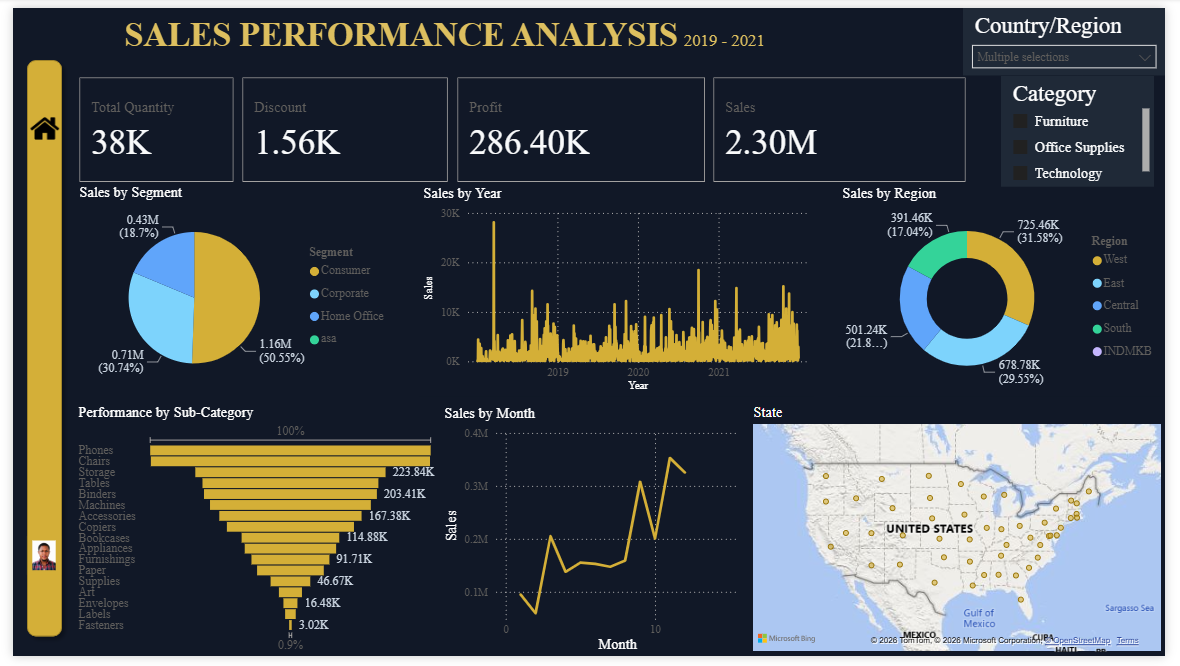

The dashboard page shown, as its layout file describes it:
{"tool":"powerbi","page":{"name":"Report","canvas":[1280,720],"ordinal":1},"visuals":[{"type":"shape","box":[6.7,48.3,56.7,658.3],"z":0},{"type":"donutChart","fields":{"Category":["Orders.Region"],"Y":["Sum(Orders.Sales)"]},"box":[916.2,196.2,363.8,235],"z":1000},{"type":"funnel","fields":{"Category":["Orders.Sub-Category"],"Y":["Sum(Orders.Sales)"]},"box":[68.3,439.9,406.3,280.1],"z":2000},{"type":"pieChart","fields":{"Category":["Orders.Segment"],"Y":["Sum(Orders.Sales)"]},"box":[68.6,195.7,357.1,235.7],"z":3000},{"type":"lineChart","fields":{"Category":["Orders.Order Date"],"Y":["Sum(Orders.Sales)"]},"box":[451.2,196.2,438.8,235],"z":4000},{"type":"map","fields":{"Category":["Orders.State"]},"box":[817.2,439.9,463,280.1],"z":5000},{"type":"cardVisual","fields":{"Data":["Sum(Orders.Sales)"]},"box":[773.8,72.5,290,126.2],"z":6000},{"type":"cardVisual","fields":{"Data":["Sum(Orders.Quantity)"]},"box":[68.8,72.5,181.2,126.2],"z":7000},{"type":"cardVisual","fields":{"Data":["Sum(Orders.Profit)"]},"box":[488.8,72.5,285,126.2],"z":8000},{"type":"cardVisual","fields":{"Data":["Sum(Orders.Discount)"]},"box":[250,72.5,238.8,126.2],"z":9000},{"type":"slicer","fields":{"Values":["Orders.Country/Region"]},"box":[1055,0,225,75],"z":10000},{"type":"slicer","fields":{"Values":["Orders.Category"]},"box":[1097.5,75,170,122.5],"z":11000},{"type":"textbox","box":[118.9,3.3,745.6,57.8],"z":12000},{"type":"image","box":[13.2,113.2,44,41.2],"z":13000},{"type":"image","box":[15,586.8,40,42.7],"z":14000},{"type":"lineChart","fields":{"Category":["Orders.Month"],"Y":["Sum(Orders.Sales)"]},"box":[474.6,441,336.8,279],"z":15000}]}

Visuals, with their boxes in screenshot pixels (x1, y1, x2, y2), scaled from the page's 1280x720 canvas onto the 1180x666 screenshot:
shape: [x1=6, y1=45, x2=58, y2=654]
donutChart - Orders.Region x Sum(Orders.Sales): [x1=845, y1=181, x2=1179, y2=399]
funnel - Orders.Sub-Category x Sum(Orders.Sales): [x1=63, y1=407, x2=438, y2=665]
pieChart - Orders.Segment x Sum(Orders.Sales): [x1=63, y1=181, x2=392, y2=399]
lineChart - Orders.Order Date x Sum(Orders.Sales): [x1=416, y1=181, x2=820, y2=399]
map - Orders.State: [x1=753, y1=407, x2=1179, y2=665]
cardVisual - Sum(Orders.Sales): [x1=713, y1=67, x2=981, y2=184]
cardVisual - Sum(Orders.Quantity): [x1=63, y1=67, x2=230, y2=184]
cardVisual - Sum(Orders.Profit): [x1=451, y1=67, x2=713, y2=184]
cardVisual - Sum(Orders.Discount): [x1=230, y1=67, x2=451, y2=184]
slicer - Orders.Country/Region: [x1=973, y1=0, x2=1179, y2=69]
slicer - Orders.Category: [x1=1012, y1=69, x2=1168, y2=183]
textbox: [x1=110, y1=3, x2=797, y2=57]
image: [x1=12, y1=105, x2=53, y2=143]
image: [x1=14, y1=543, x2=51, y2=582]
lineChart - Orders.Month x Sum(Orders.Sales): [x1=438, y1=408, x2=748, y2=665]
